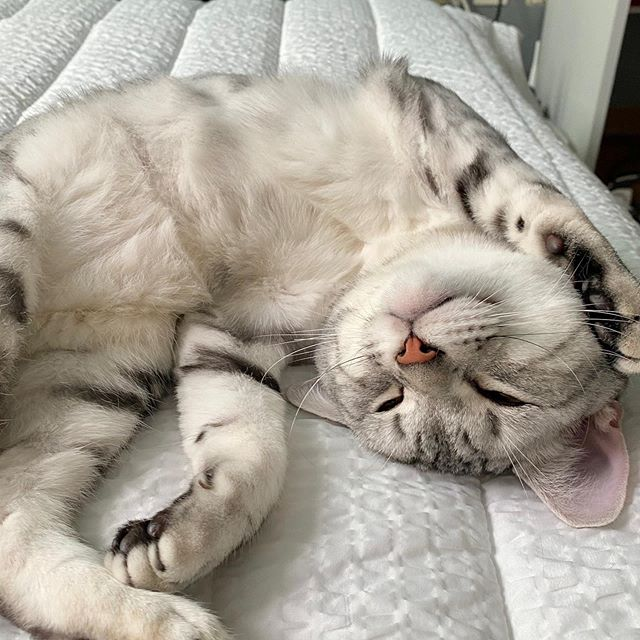cat: (311, 223, 629, 532)
